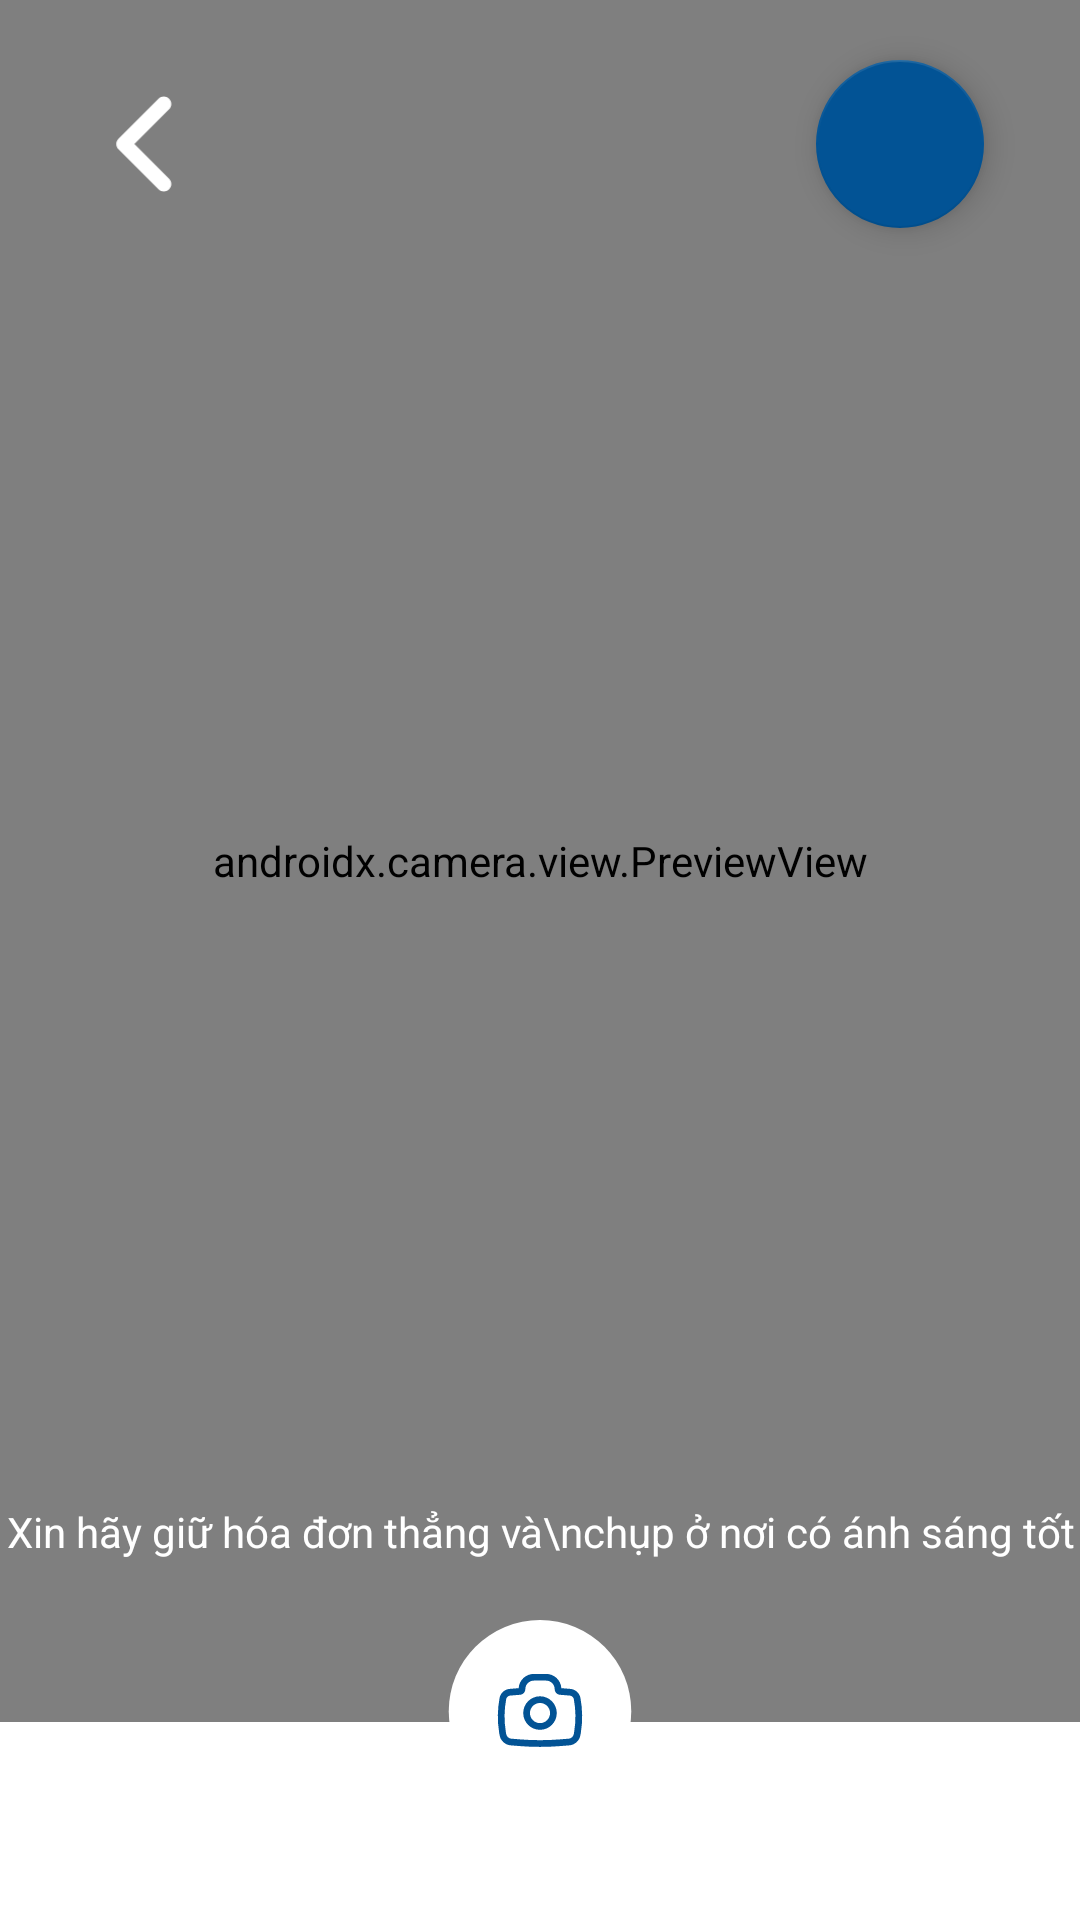

Icon click points for this 1080w x 1920h phone screenshot, format (x=x, y=y):
back arrow: (x=144, y=144)
take photo: (x=540, y=1722)
